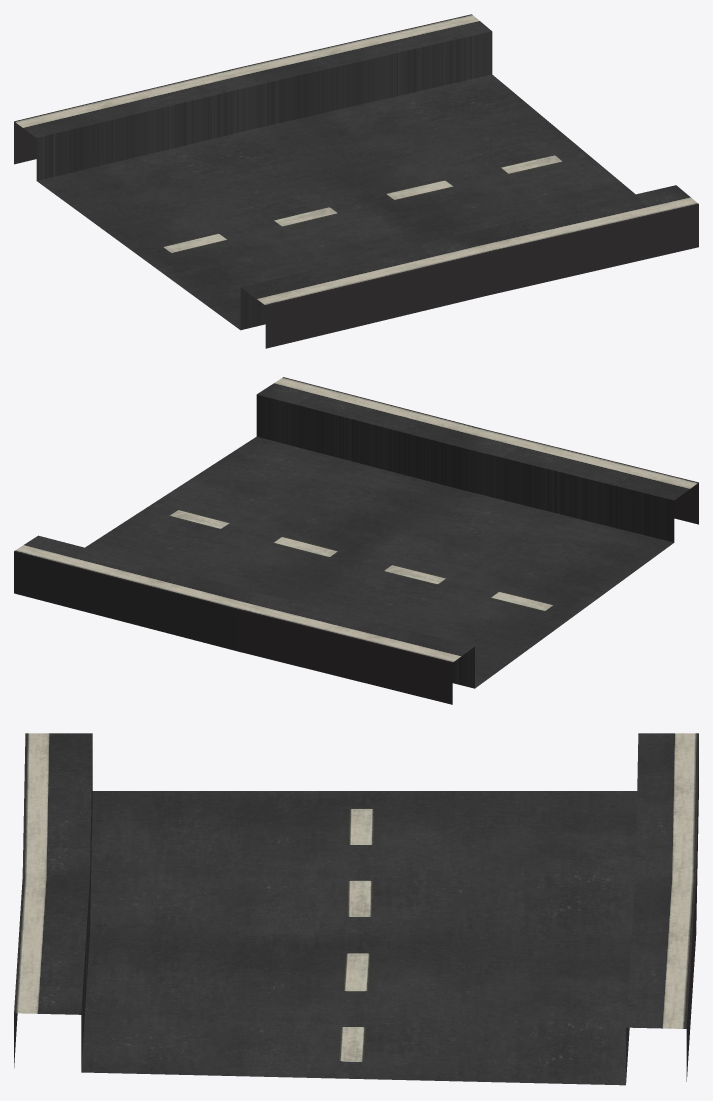
The model's file is RightCurveRoad.glb.
The picture shows the model from 3 angles, top to bottom: view 1: azimuth 30°, elevation 25°; view 2: azimuth 150°, elevation 25°; view 3: azimuth 270°, elevation 25°; orthographic projection. The views are drawn at different scales.
Visible parts, largest first — view 1: Plane; view 2: Plane; view 3: Plane.
Part boxes in pixels (x1,y1,x2,y2): Plane: [14, 14, 698, 348]; Plane: [14, 377, 698, 704]; Plane: [14, 733, 698, 1085].
Bounding box in the file's own units: 2.08 × 0.1889 × 2.03.
1 material, 1 textured.
